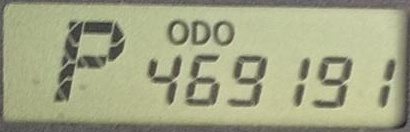1: (376, 57, 397, 109), (291, 56, 310, 107)
4: (146, 54, 182, 106)
6: (185, 53, 222, 107)
9: (310, 55, 352, 110), (226, 54, 268, 107)
X: (52, 20, 128, 105), (212, 19, 235, 45), (167, 20, 189, 45), (191, 20, 210, 45)
